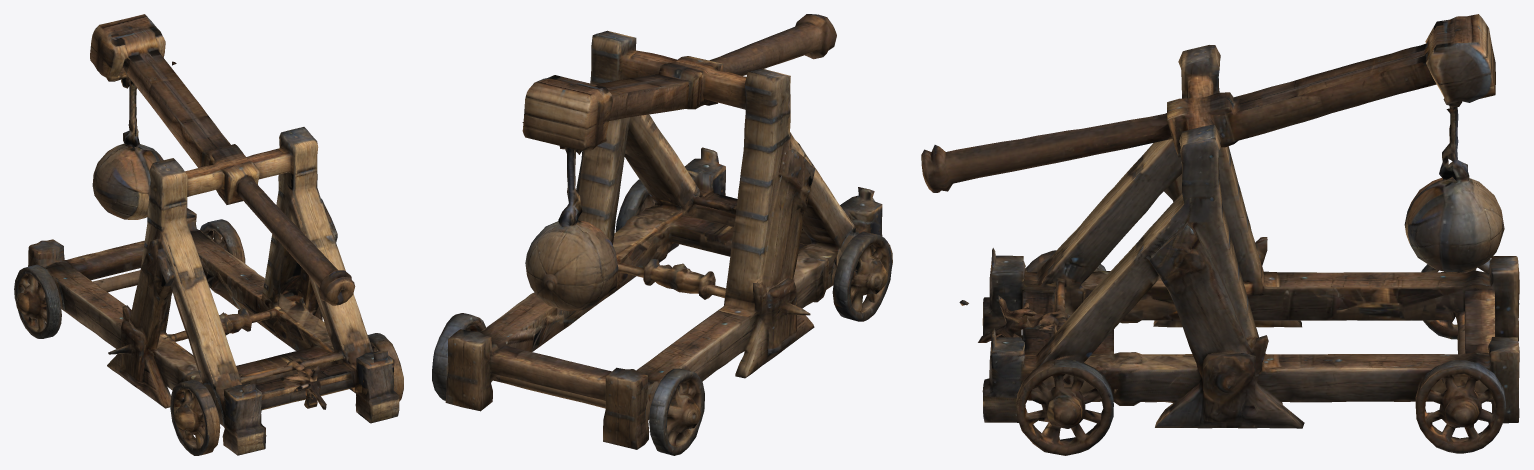
File: 3d_asset_for_game_a__0210205406_texture.fbx
The picture shows the model from 3 angles, left to right: view 1: azimuth 30°, elevation 25°; view 2: azimuth 150°, elevation 25°; view 3: azimuth 270°, elevation 25°; orthographic projection. The views are drawn at different scales.
Visible parts, largest first — view 1: Mesh1_Mesh1.001; view 2: Mesh1_Mesh1.001; view 3: Mesh1_Mesh1.001.
Boxes of the visible parts, <box> form: Mesh1_Mesh1.001: <box>14,14,403,455</box>; Mesh1_Mesh1.001: <box>432,14,892,455</box>; Mesh1_Mesh1.001: <box>921,14,1519,455</box>.
Bounding box in the file's own units: 109 × 136 × 200.
Materials: 1 (1 with a texture image).
